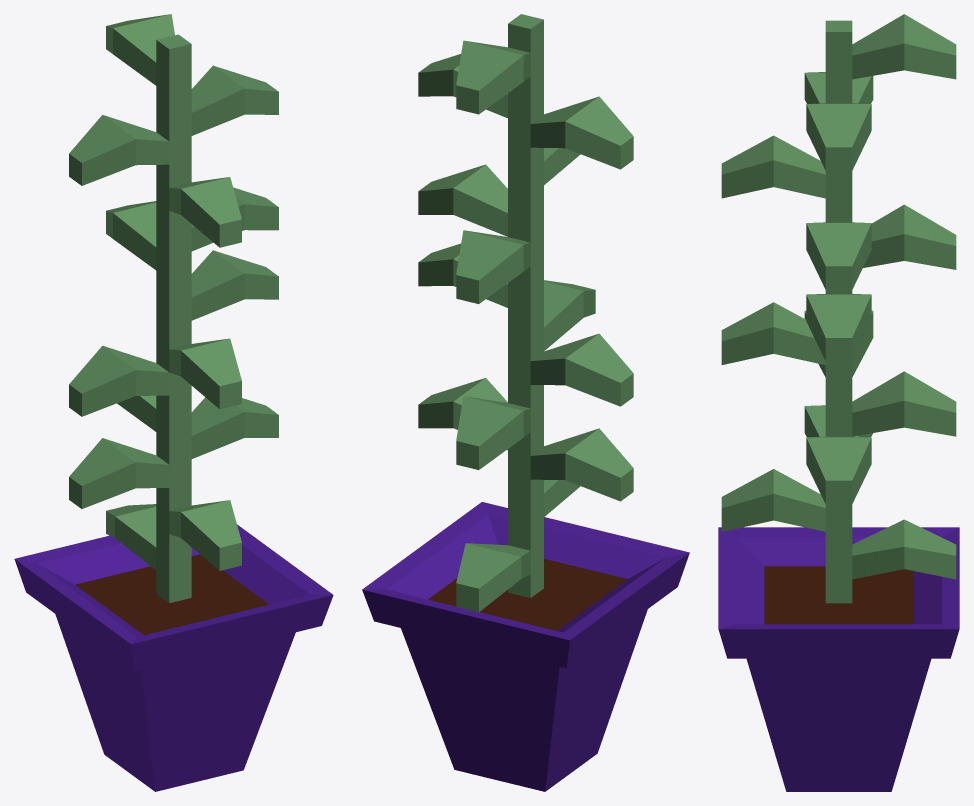
File: Plant_WorkRoom.glb
3 views of the same model, side by side, from view 1: azimuth 30°, elevation 25°; view 2: azimuth 150°, elevation 25°; view 3: azimuth 270°, elevation 25° (orthographic). The views are drawn at different scales.
Visible parts, largest first — view 1: Plant.001; view 2: Plant.001; view 3: Plant.001.
Boxes of the visible parts, <box> form: Plant.001: <box>14,14,333,791</box>; Plant.001: <box>362,14,689,791</box>; Plant.001: <box>718,14,959,791</box>.
Bounding box in the file's own units: 0.3517 × 1.2 × 0.3517.
Materials: 1 (1 with a texture image).
